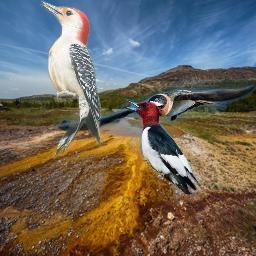Swallow: (56, 79, 256, 131)
Woodpecker: (37, 0, 101, 159), (121, 97, 201, 194)
